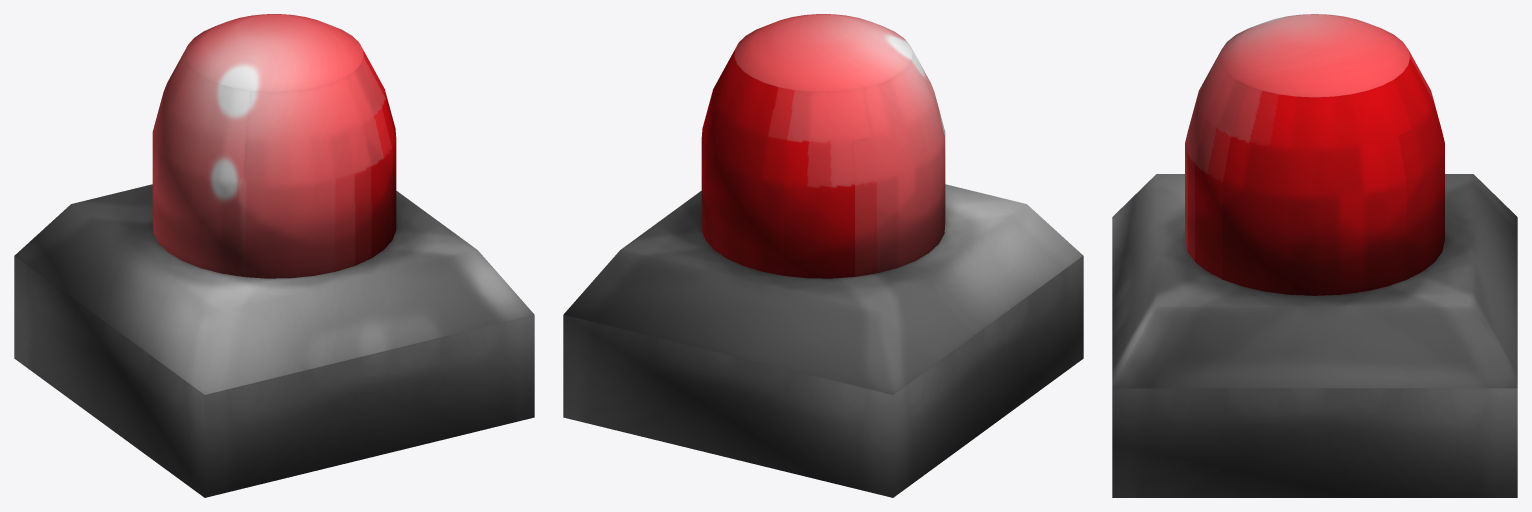
File: button_off.glb
The picture shows the model from 3 angles, left to right: view 1: azimuth 30°, elevation 25°; view 2: azimuth 150°, elevation 25°; view 3: azimuth 270°, elevation 25°; orthographic projection. The views are drawn at different scales.
Visible parts, largest first — view 1: Cube.002; view 2: Cube.002; view 3: Cube.002.
Boxes of the visible parts, left/top/right/bottom form: Cube.002: left=14, top=14, right=534, bottom=497; Cube.002: left=563, top=14, right=1083, bottom=497; Cube.002: left=1112, top=14, right=1517, bottom=497.
Bounding box in the file's own units: 1 × 1.04 × 1.
1 material, 1 textured.
